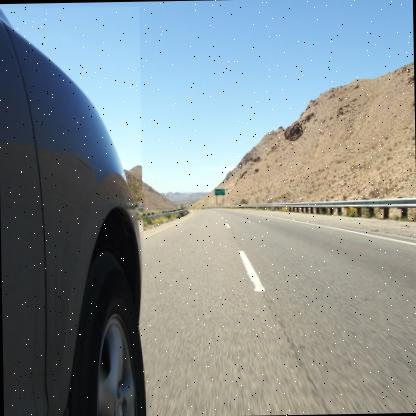Car: (0, 6, 147, 415)
